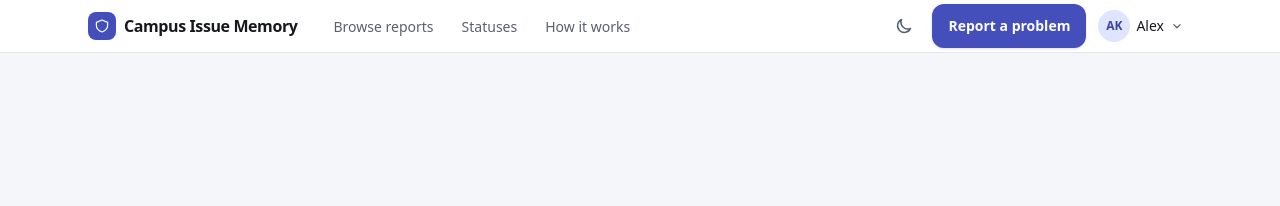
Test: Header › shows the account chip with role and signs the demo user out
The image size is (1280, 206).
// Signed in via the demo account (no server session in jsdom).
Click the button with aria-label "Account menu for Alex Kim".
click(1142, 26)  # box [1092,4,1192,48]
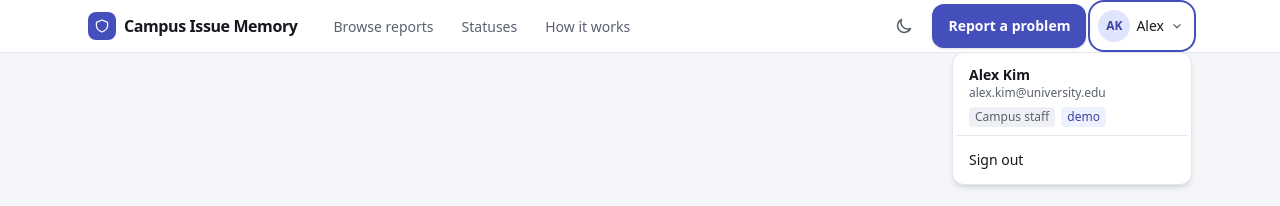
Result: the text "alex.kim@university.edu" is shown at [969,84,1106,101]
Result: the text "Campus staff" is shown at [969,107,1055,127]
Result: the text "demo" is shown at [1061,107,1106,127]
Click the button "Sign out".
click(1072, 160)  # box [957,140,1187,180]
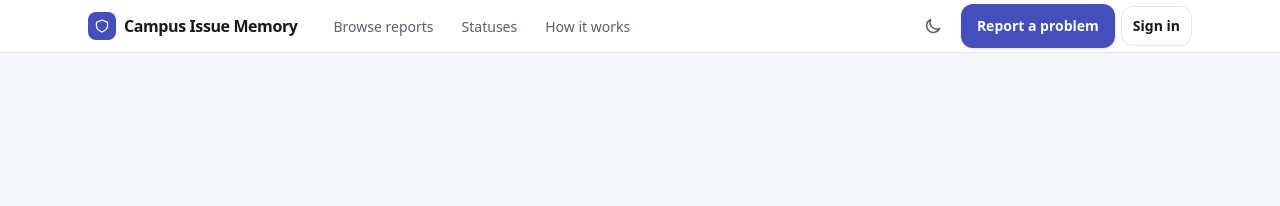
Result: the button "Sign in" is shown at [1121,6,1192,46]
